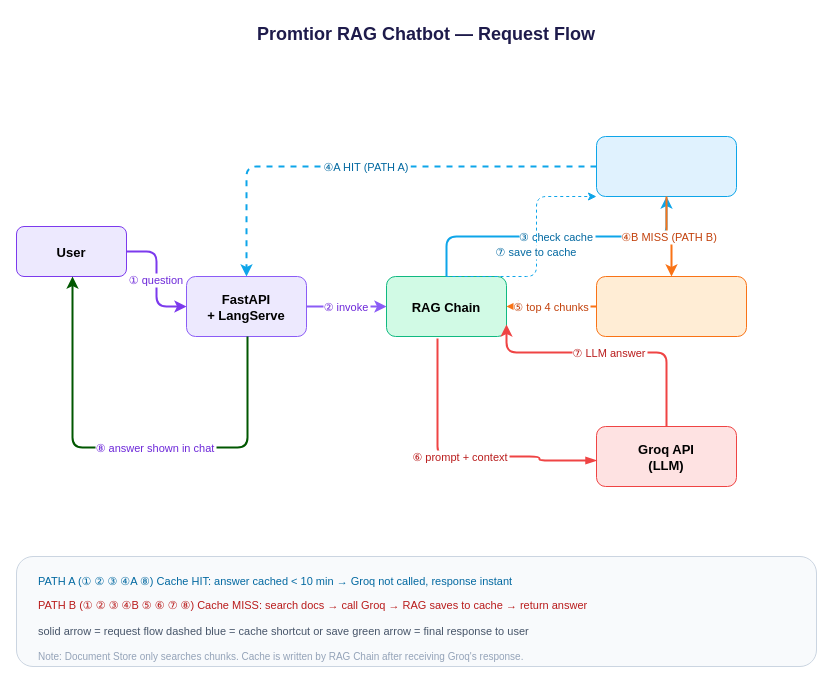
This 833x683 diagram has some shape labels left out. The centre of each missing label's shape, as x and y in pixels:
Cache (10 min TTL): the point at 666,166
Document Store (keyword search): the point at 671,306
